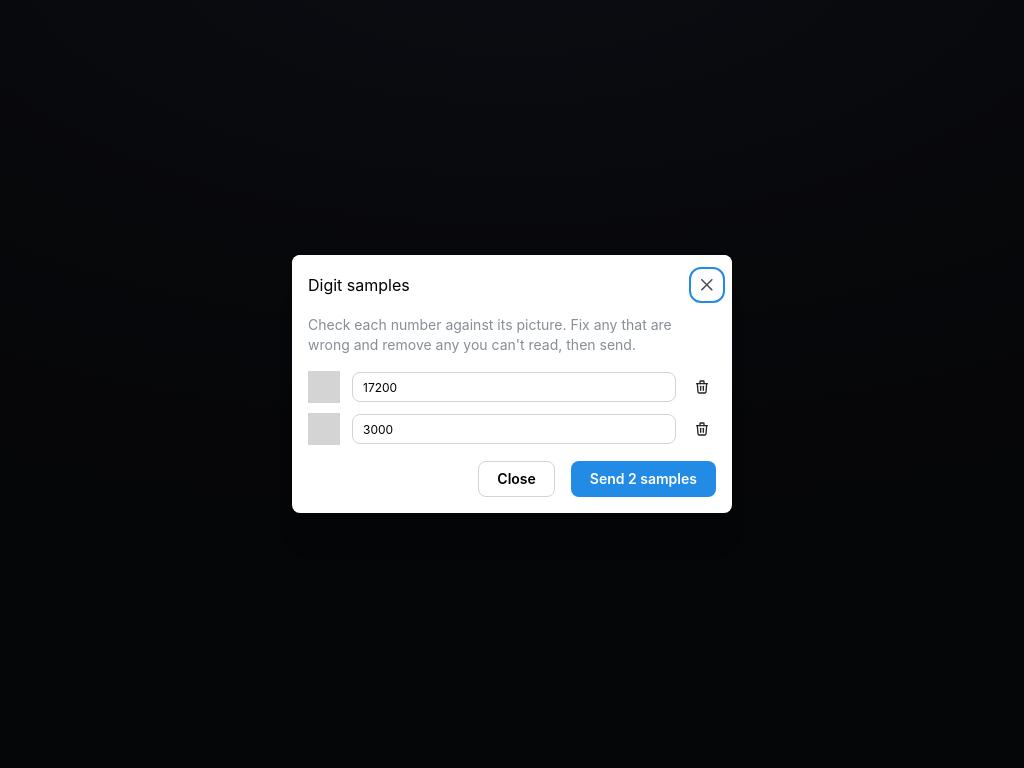
Scenario: GlyphPackModal › sends the samples with corrected numbers, minus removed ones
Expected: the button "Send 2 samples" is shown, x1=590 y1=470 x2=697 y2=487
Click the 2nd button named "Remove sample".
click(702, 429)  # box x1=688 y1=415 x2=716 y2=443
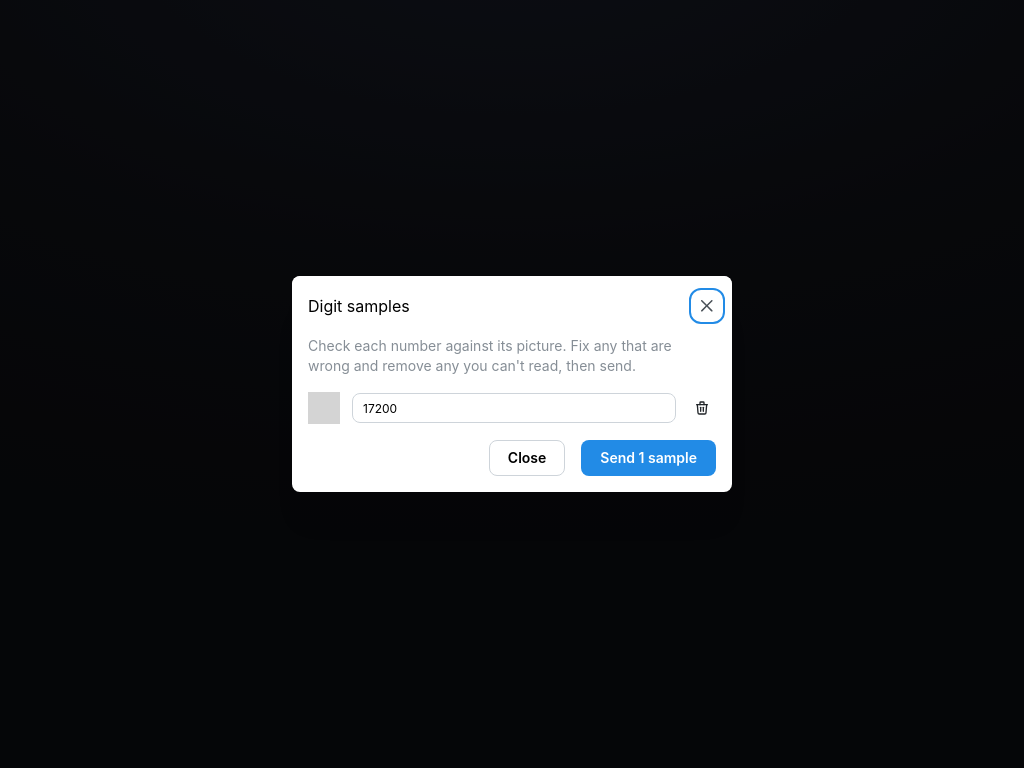
Expected: the button "Send 1 sample" is shown, x1=600 y1=449 x2=697 y2=466
Replace the text in the field named "Number shown" with "17300" at (514, 408), box x1=352 y1=393 x2=676 y2=423
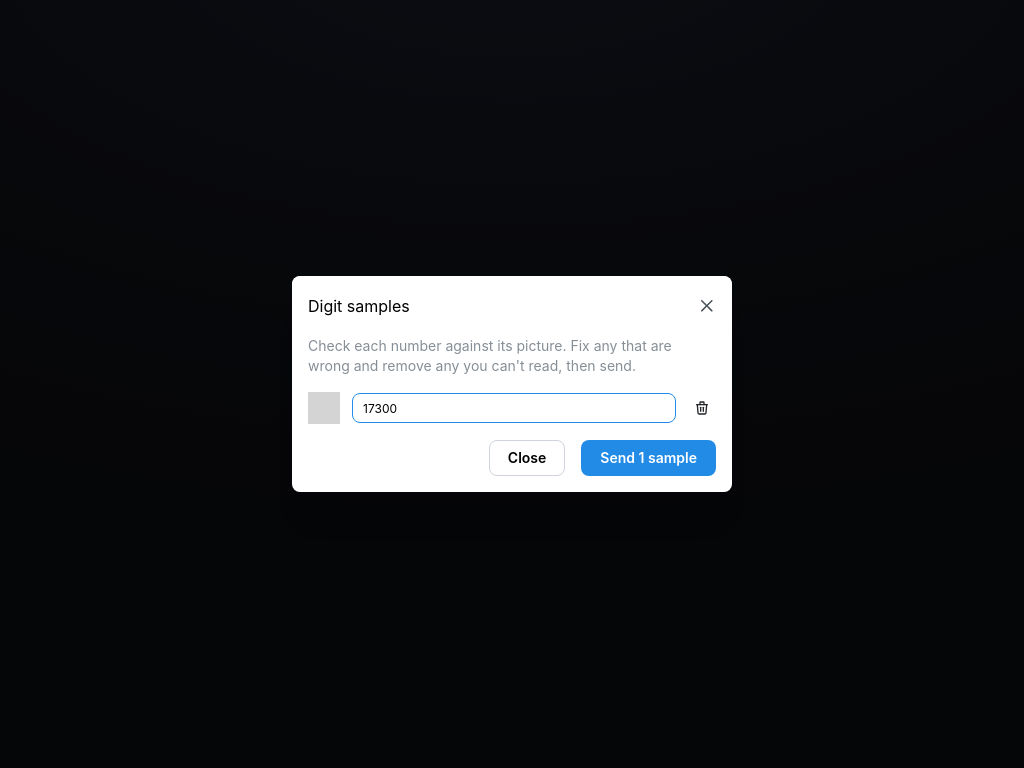
Click the button "Send 1 sample".
click(649, 458)  # box x1=581 y1=440 x2=716 y2=476
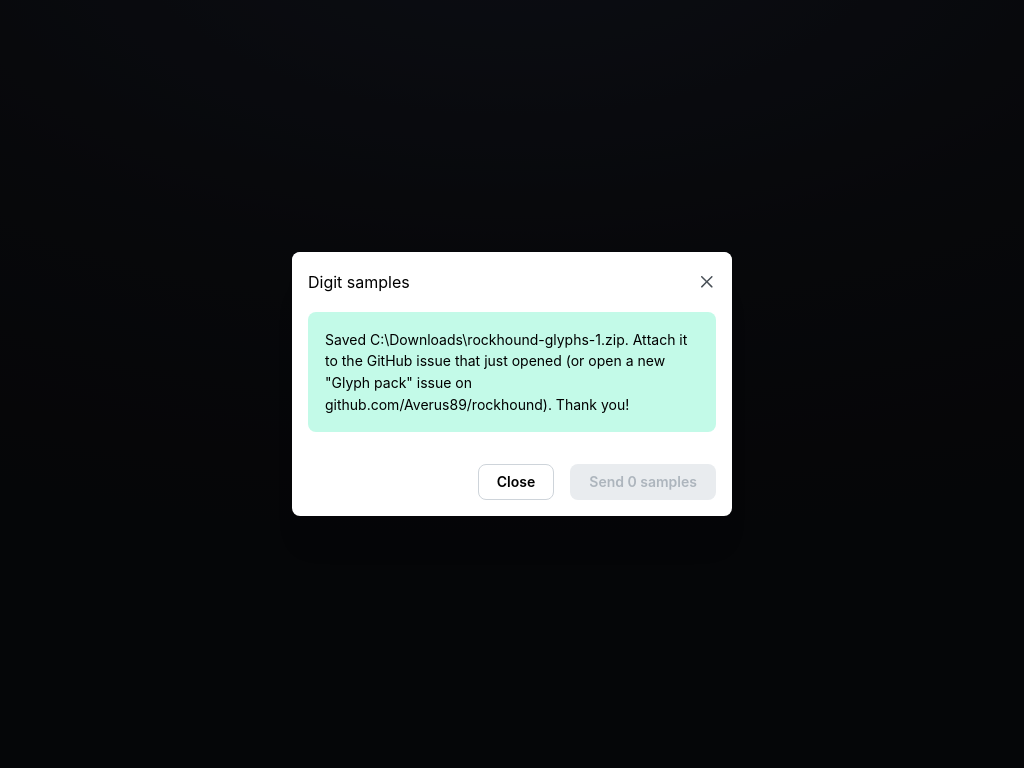
Expected: the text "rockhound-glyphs-1.zip" is shown, x1=370 y1=331 x2=625 y2=348
